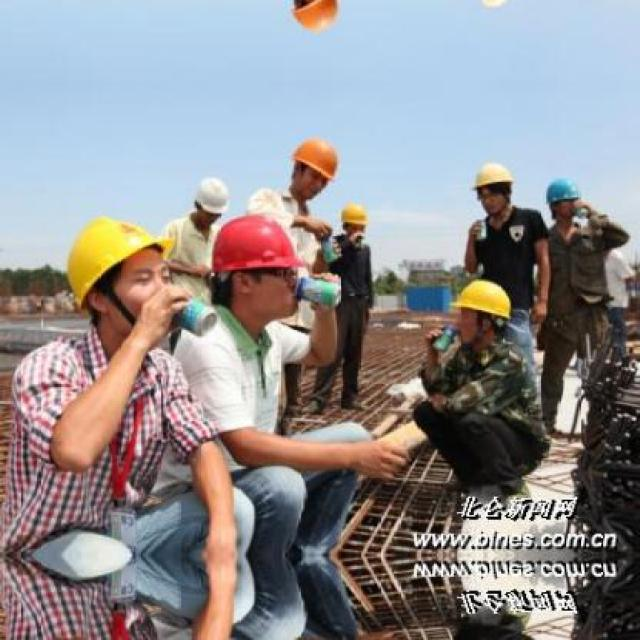helmet: (53, 203, 175, 338), (210, 207, 307, 319), (447, 272, 513, 346), (285, 131, 340, 204), (469, 154, 518, 221), (187, 170, 231, 223), (284, 0, 342, 39), (544, 173, 585, 223), (337, 198, 371, 242), (469, 0, 520, 15)
